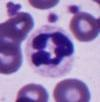N: (26, 25, 76, 78)
